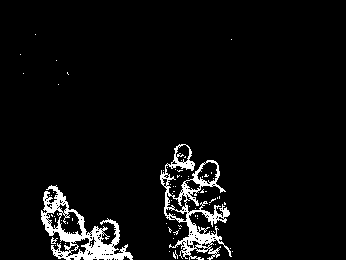person: (185, 160, 231, 230), (180, 210, 231, 260), (38, 185, 71, 257), (163, 141, 188, 233), (88, 218, 130, 260), (52, 210, 87, 260)
